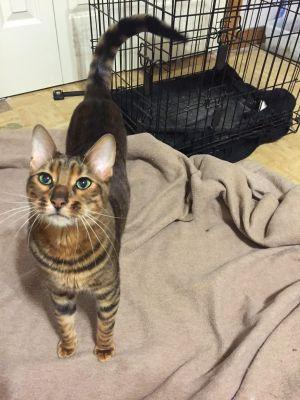bengal: (20, 121, 123, 243)
